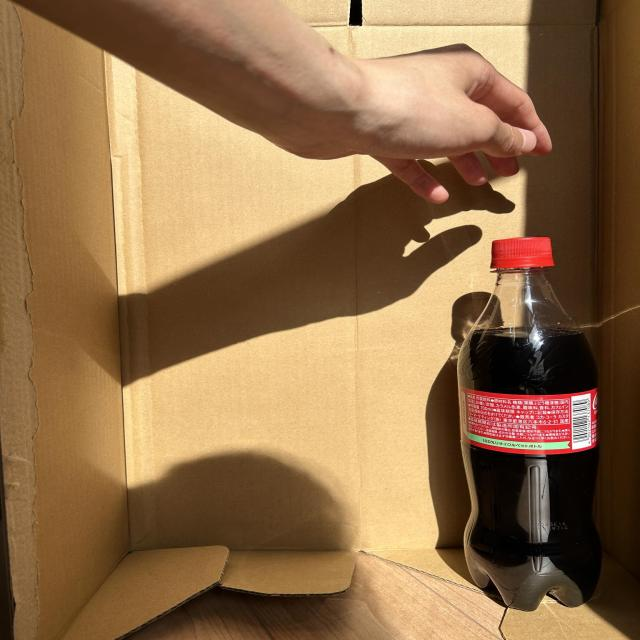high: (458, 238, 601, 611)
